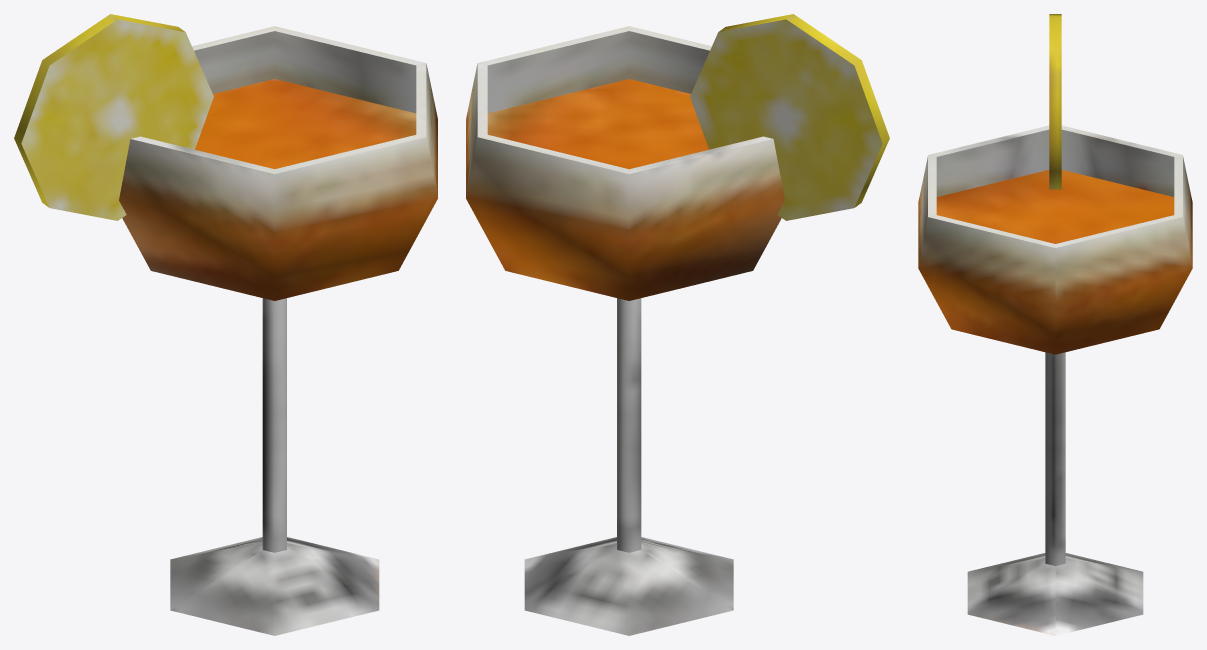
File: DrinkV6.fbx
The picture shows the model from 3 angles, left to right: view 1: azimuth 30°, elevation 25°; view 2: azimuth 150°, elevation 25°; view 3: azimuth 270°, elevation 25°; orthographic projection. The views are drawn at different scales.
Visible parts, largest first — view 1: Cocktails.014; view 2: Cocktails.014; view 3: Cocktails.014.
Part boxes in pixels (<box>): Cocktails.014: <box>14,14,437,635</box>; Cocktails.014: <box>466,14,889,635</box>; Cocktails.014: <box>918,14,1192,635</box>.
Size of the model in its own units: 0.2345 by 0.324 by 0.1577.
